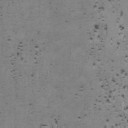oxide scale of temperature system: (39, 85, 87, 128), (89, 3, 124, 56), (106, 68, 128, 126), (13, 41, 36, 85), (54, 47, 60, 52), (80, 84, 86, 88), (28, 103, 34, 106)
